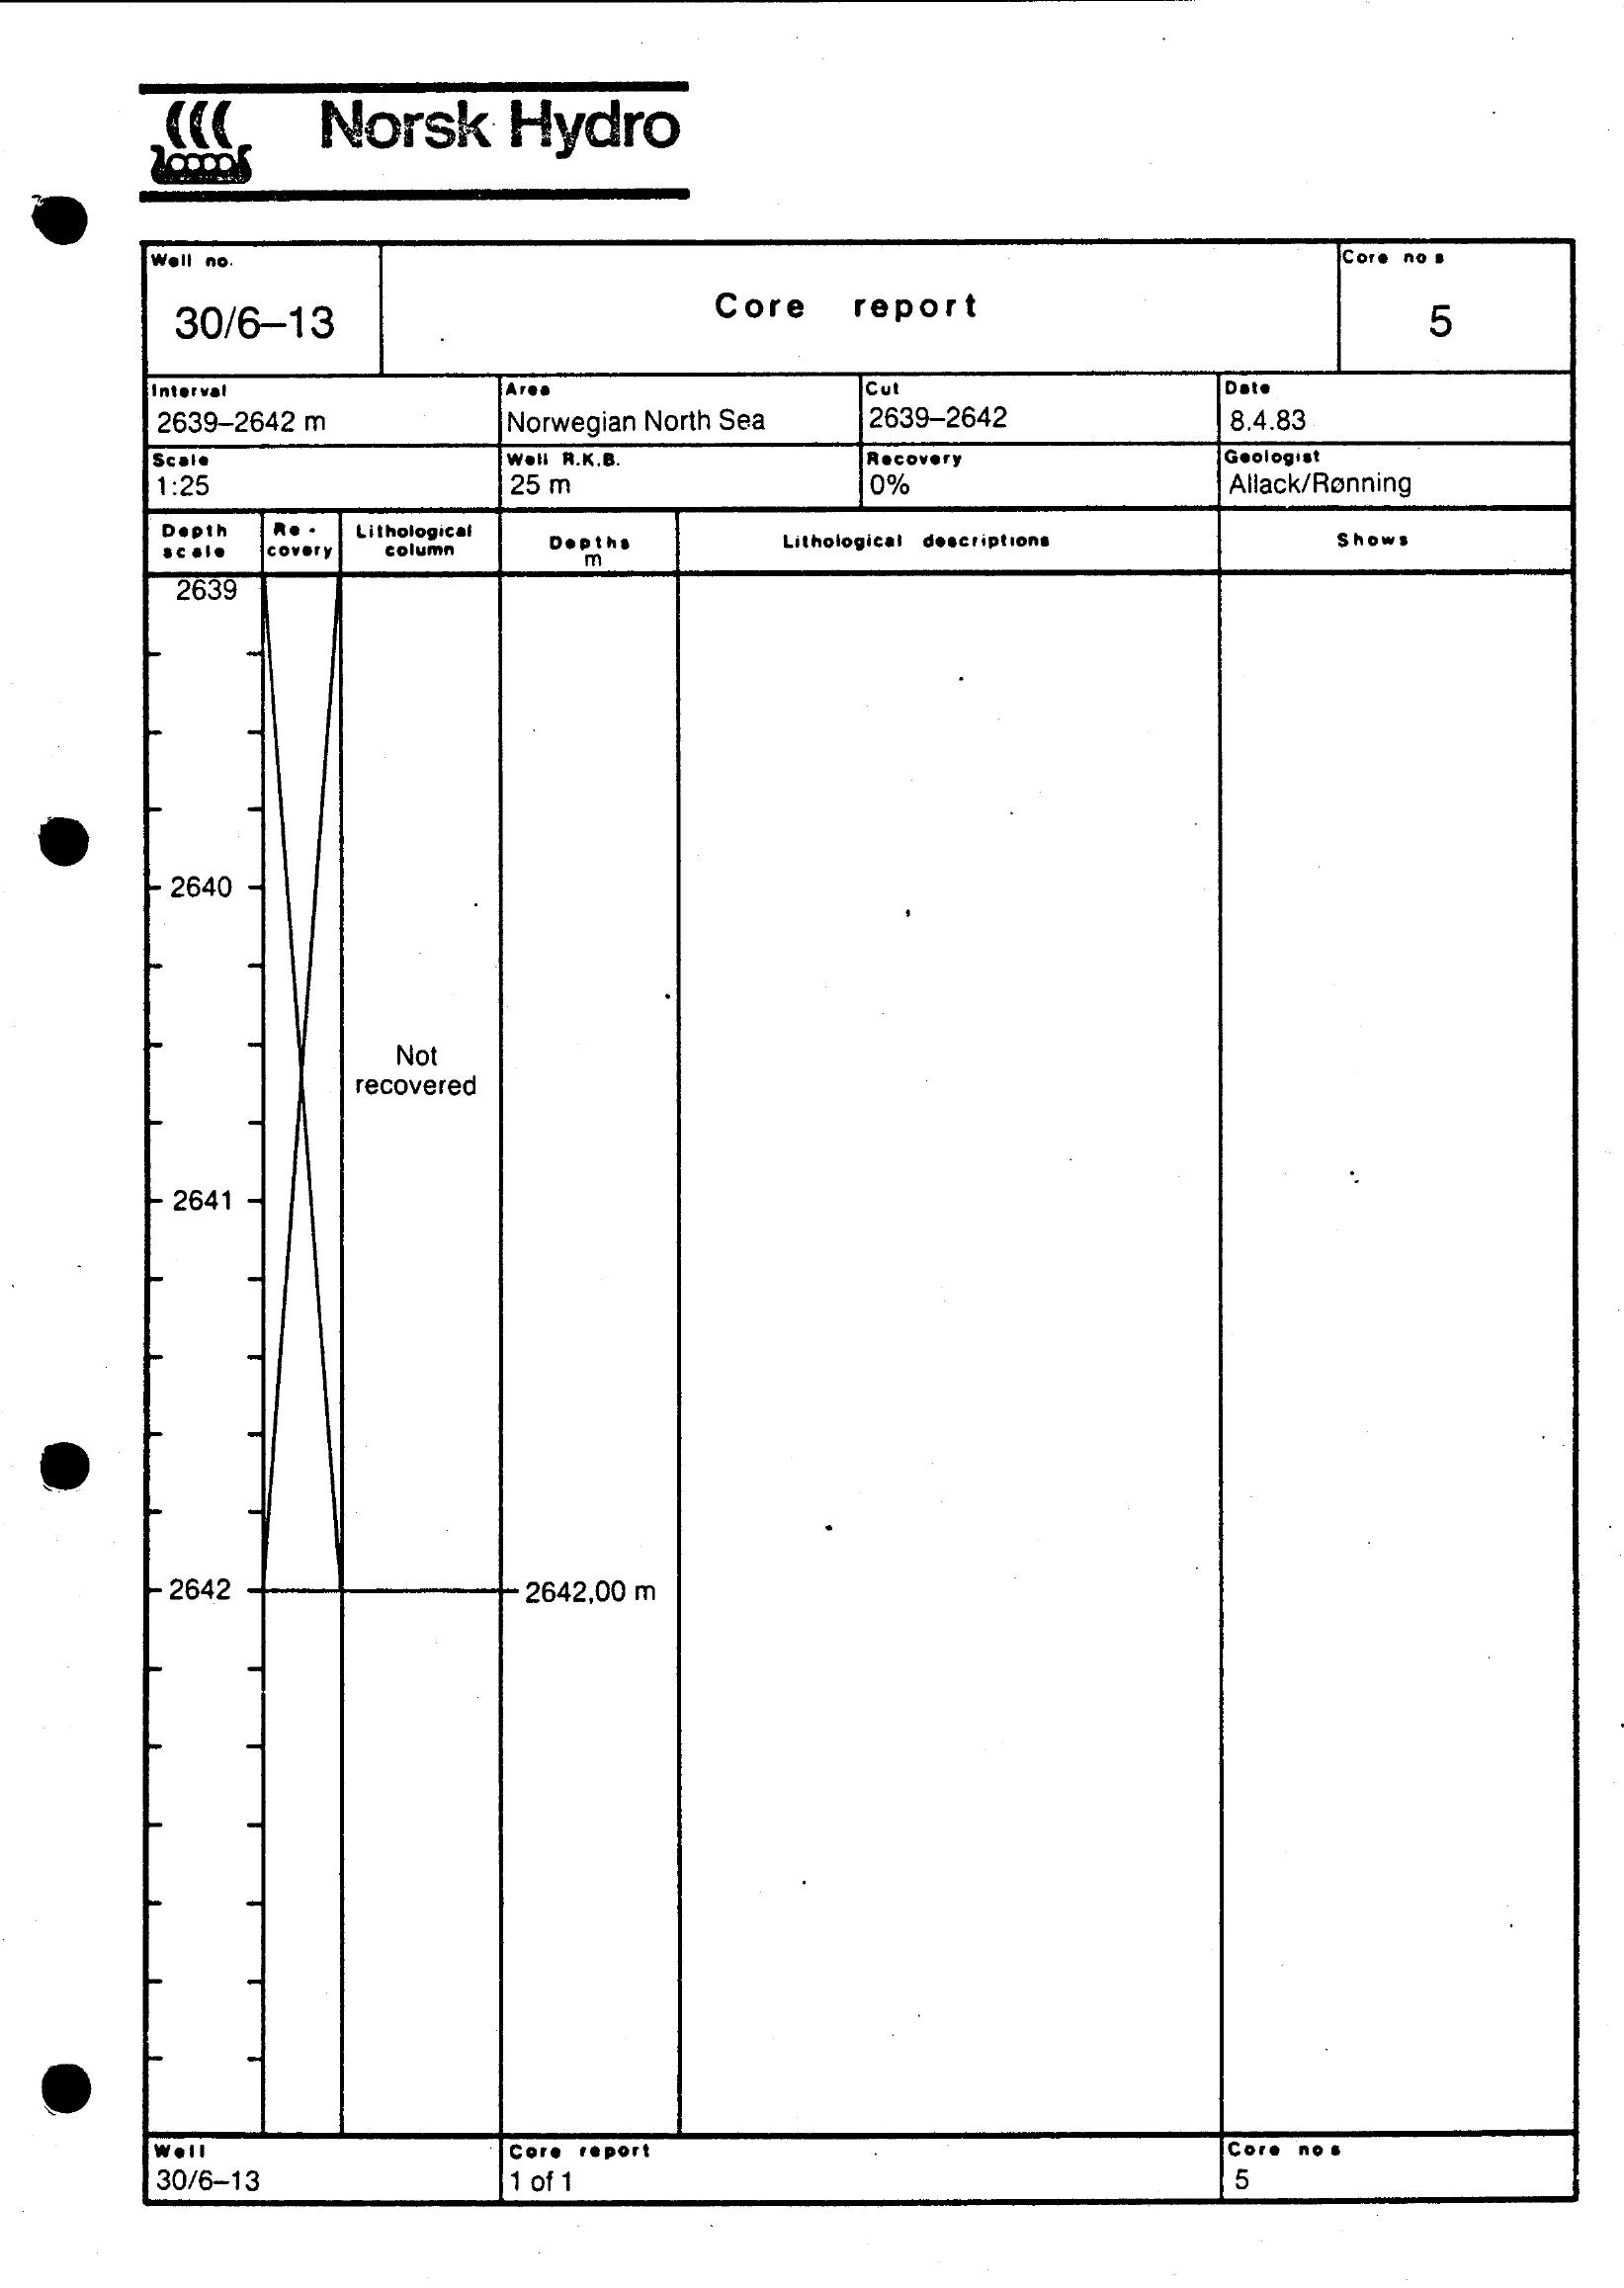graph: (107, 228, 1606, 2228)
undefined: (125, 65, 740, 207)
